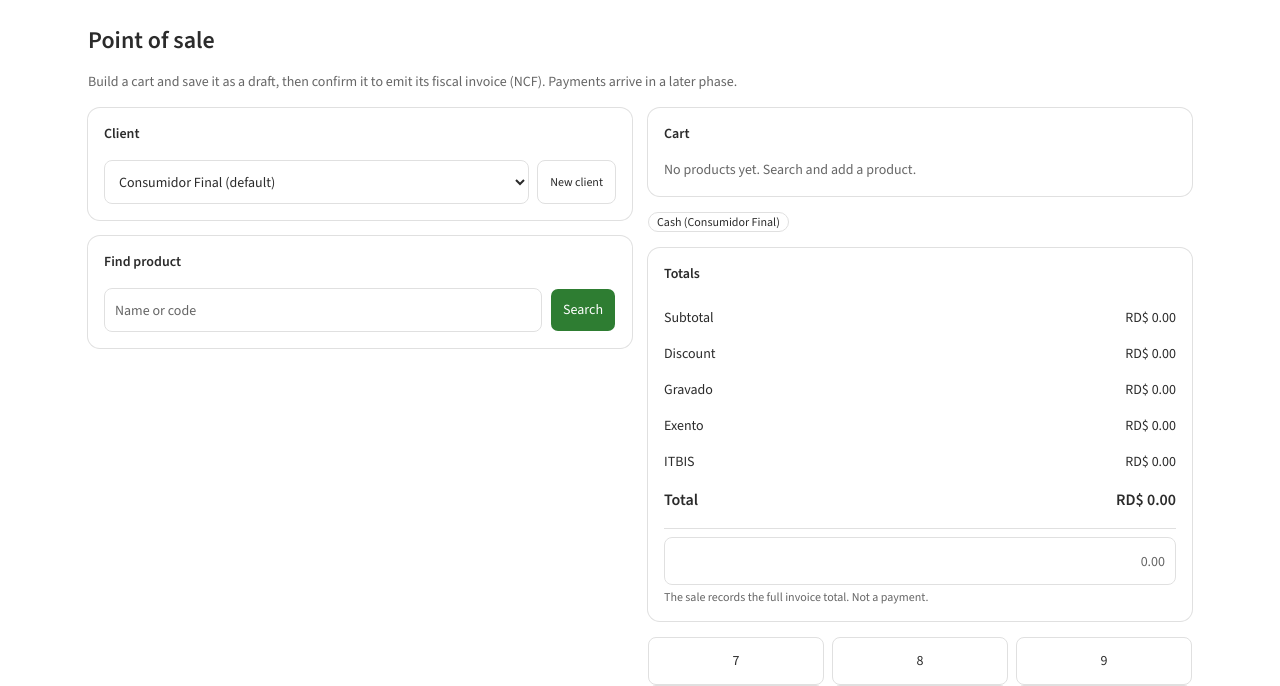
PosScreen credit-mode derivation (R-V19) › shows the three profile facts on selecting a derived-credit client
Select "Comercios Clara, SRL" in the dropdown named "Client selection" at (317, 182), box [104,160,529,204]
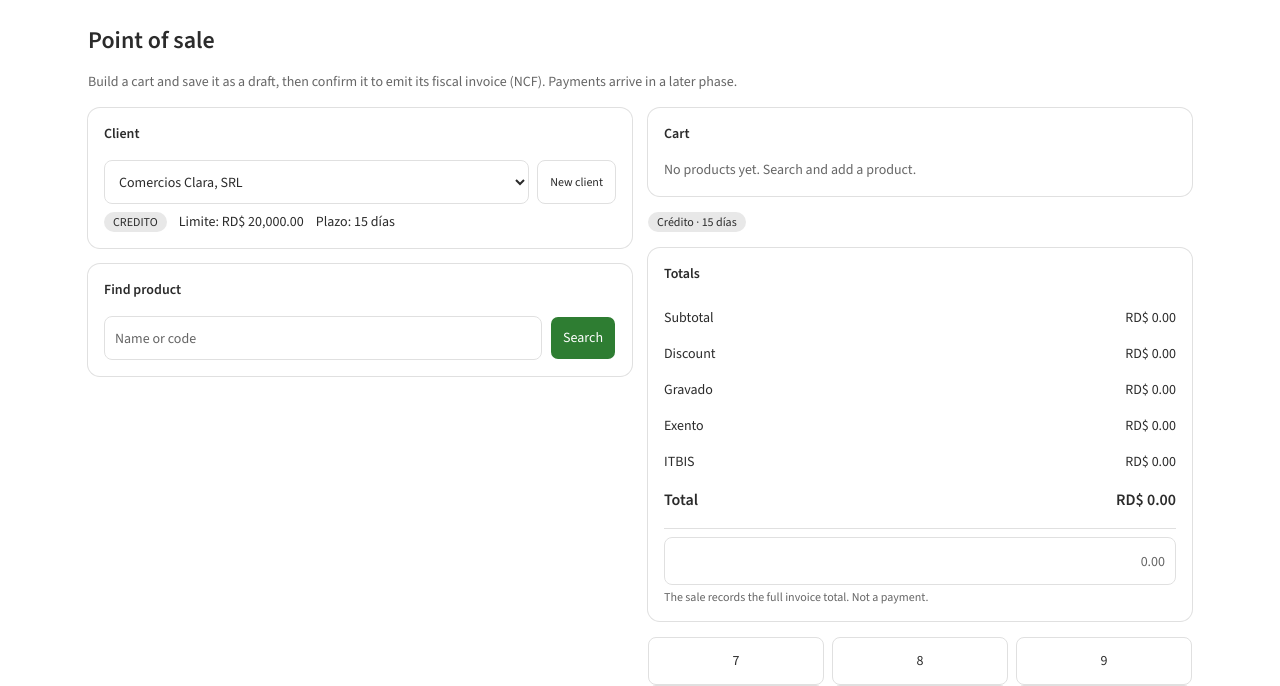
Check: the text "CREDITO" is shown, box [104,212,167,232]
Check: the text "Limite: RD$ 20,000.00" is shown, box [179,212,304,232]
Check: the text "Plazo: 15 días" is shown, box [316,212,395,232]
